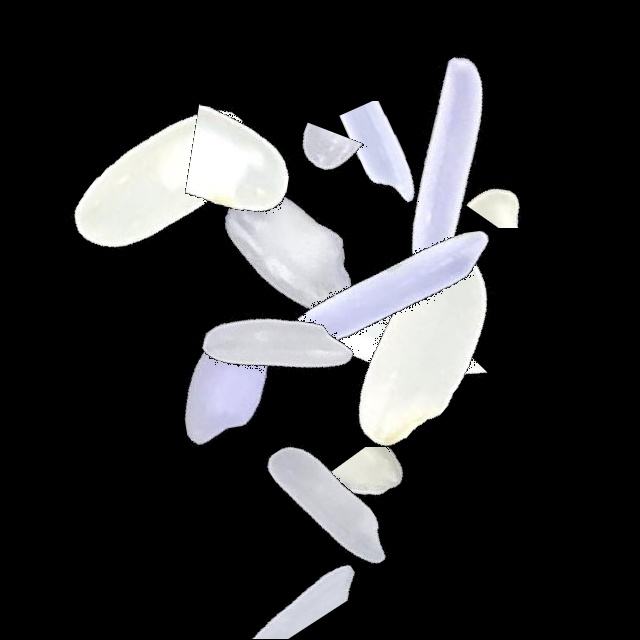Broken: (265, 306, 515, 444), (132, 95, 382, 228), (143, 506, 393, 639), (261, 101, 511, 231), (258, 447, 508, 558), (275, 58, 376, 308), (385, 153, 635, 228)
Full: (164, 128, 414, 378), (101, 260, 351, 510), (318, 37, 568, 287), (38, 52, 288, 302), (299, 225, 549, 475), (206, 381, 456, 631), (268, 164, 518, 414), (152, 223, 402, 473)
